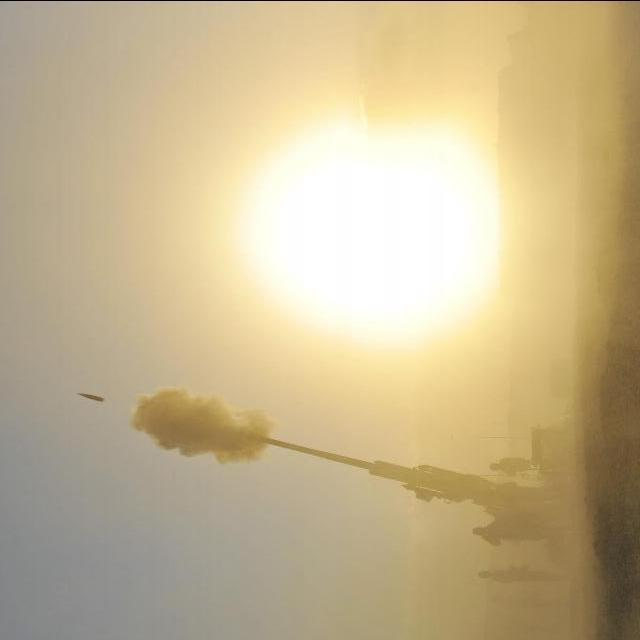missile: (72, 386, 108, 414)
